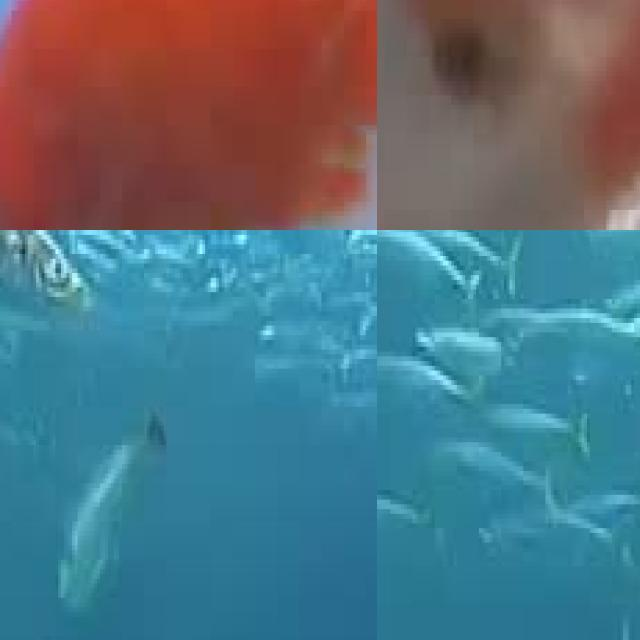fish: (0, 0, 377, 230), (377, 119, 640, 230)
